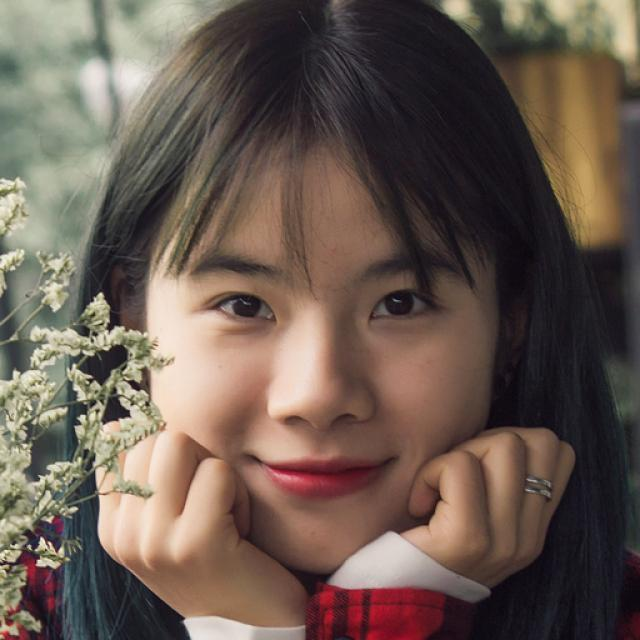happy: (145, 126, 496, 574)
